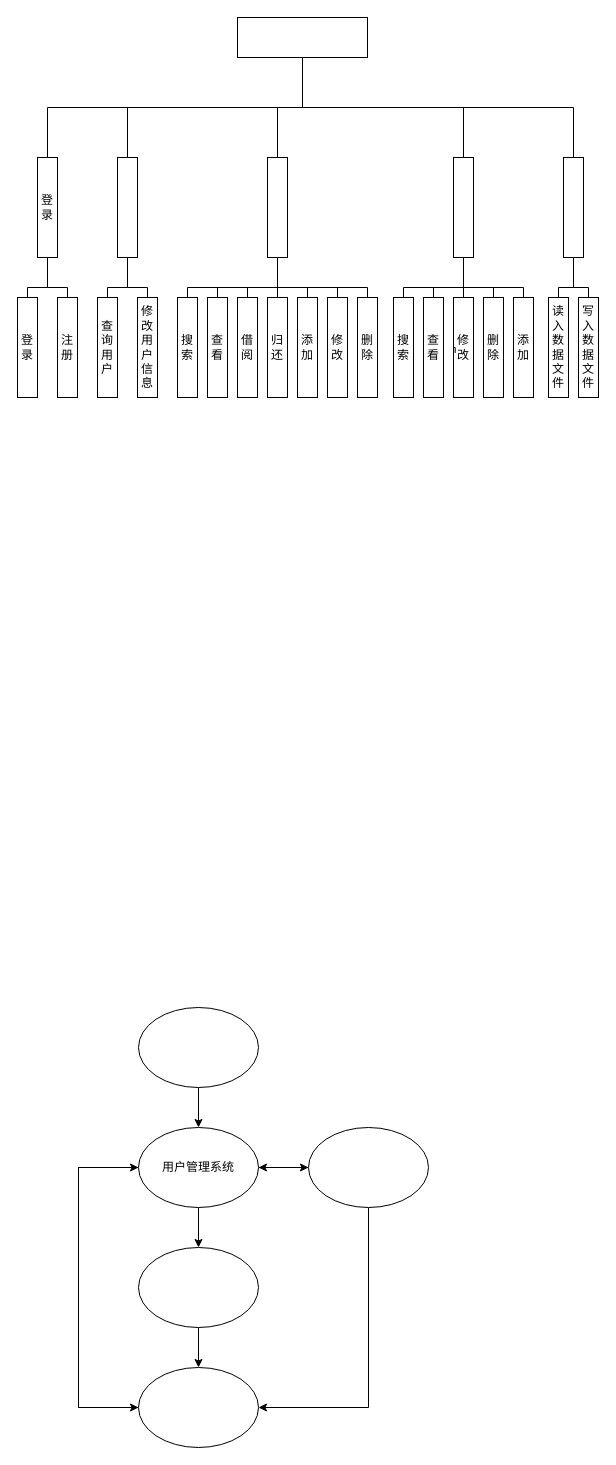
The diagram is 616 pixels wide and 1465 high, and some of its shapes have lost their labels. Here are the shapes that lost their labels. From the top down, the box of each, then its label:
(236, 16, 368, 58): 图书管理系统
(116, 156, 138, 258): 用户管理
(266, 156, 288, 258): 图书操作
(452, 156, 474, 258): 公告
(562, 156, 584, 258): 数据管理
(138, 1006, 258, 1088): 登录系统
(308, 1126, 428, 1208): 公告系统
(138, 1246, 258, 1328): 图书操作系统
(138, 1366, 258, 1448): 数据管理系统
